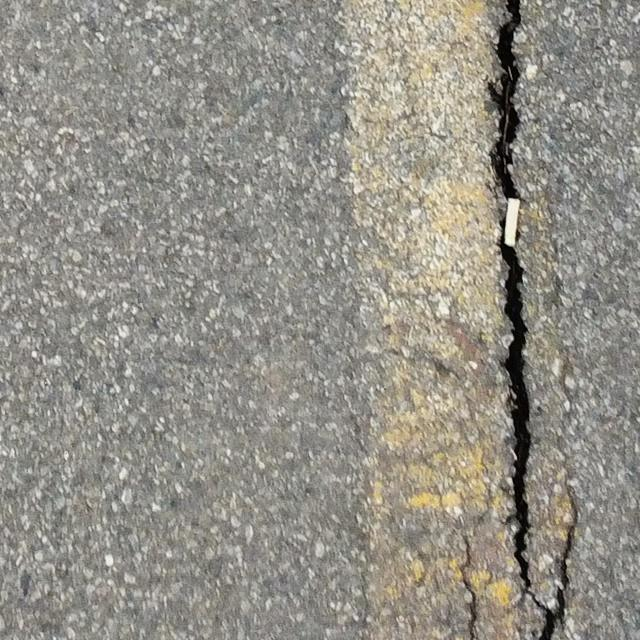LongitudinalCrack: (486, 1, 580, 640), (458, 533, 477, 640)
